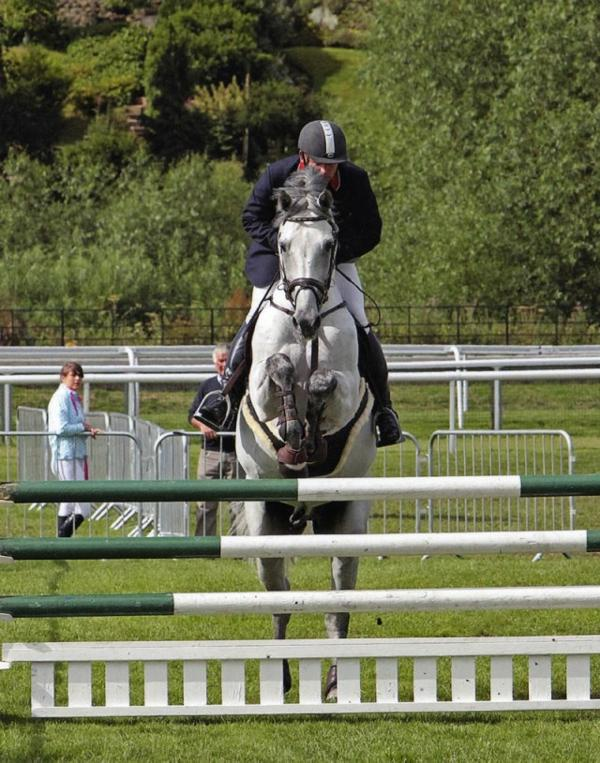person: (227, 120, 405, 452)
